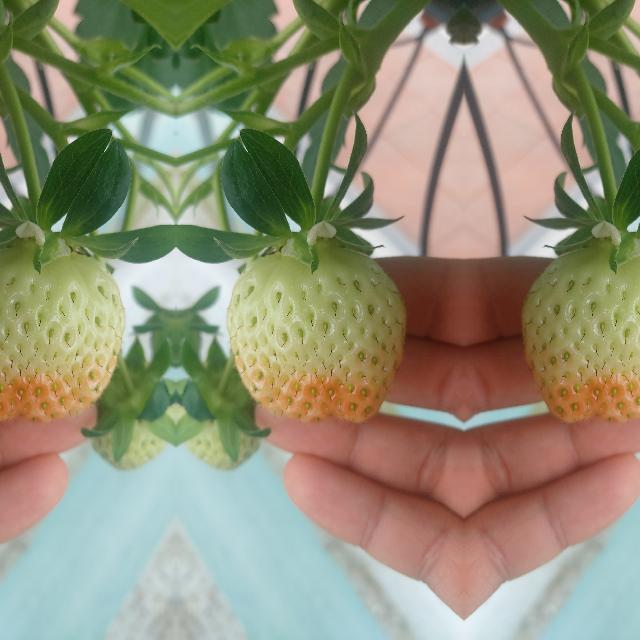Health_50: (226, 248, 404, 422), (0, 248, 124, 422), (521, 248, 640, 422)
